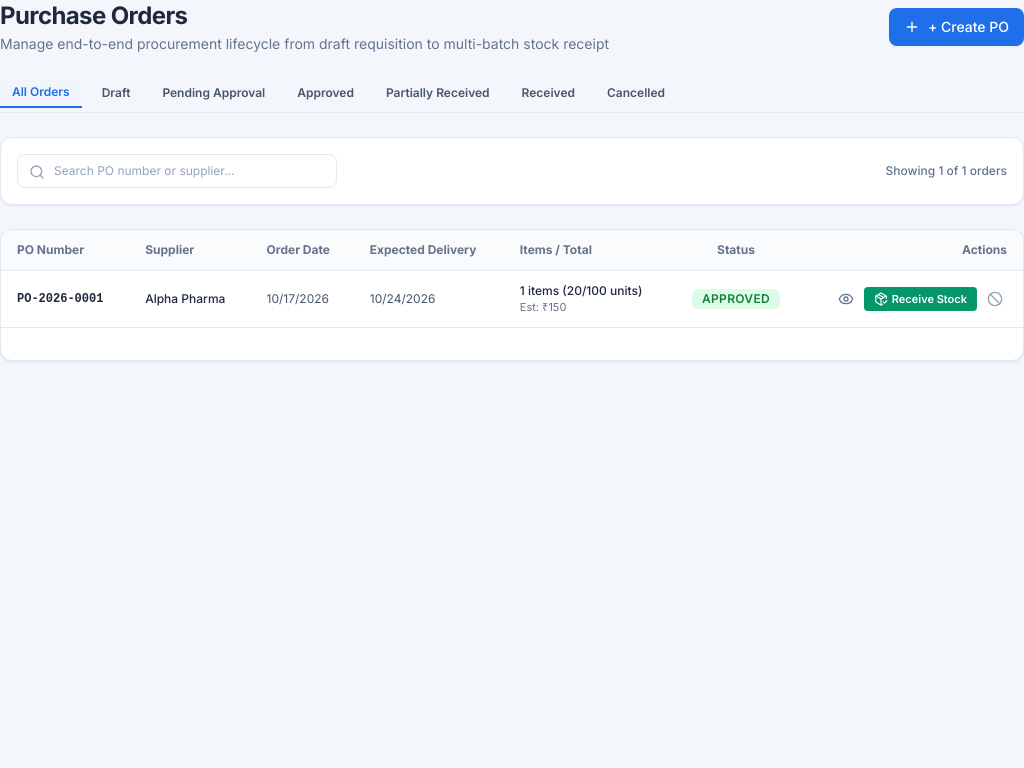
Test: Phase 7 Client Tests › Purchase Orders — Receive Form Validation › rejects receiving quantity exceeding the remaining ordered quantity
Expected: the text "PO-2026-0001" is shown, x1=1 y1=270 x2=129 y2=327
Click "Receive Stock" button
Click the button titled "Receive Stock".
click(920, 299)  # box x1=864 y1=287 x2=977 y2=311
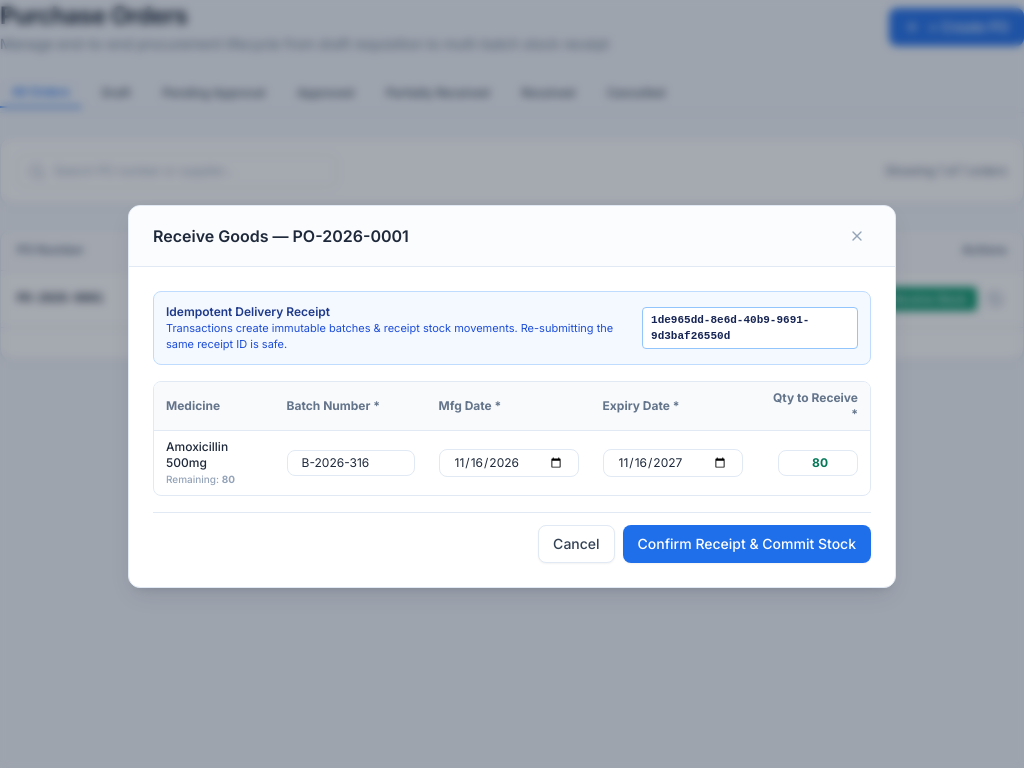
Expected: the heading "Receive Goods — PO-2026-0001" is shown, x1=153 y1=224 x2=409 y2=248
Expected: the text "Remaining: 80" is shown, x1=166 y1=472 x2=235 y2=484
Expected: the text "80" is shown, x1=222 y1=472 x2=235 y2=484
Find the quantity input and enter 120 (exceeds remaining 80)
Replace the text in the number field with "120" at (818, 462), box x1=778 y1=450 x2=858 y2=476
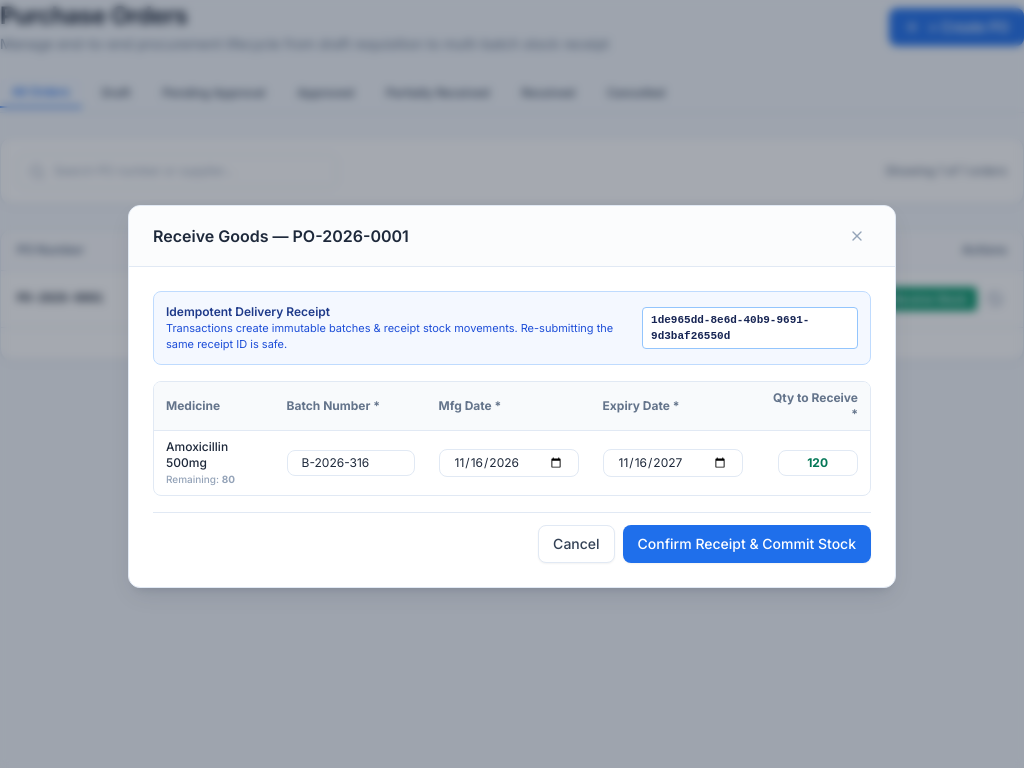
Click Confirm Receipt
Click the button "Confirm Receipt & Commit Stock".
click(747, 544)  # box x1=623 y1=524 x2=871 y2=562
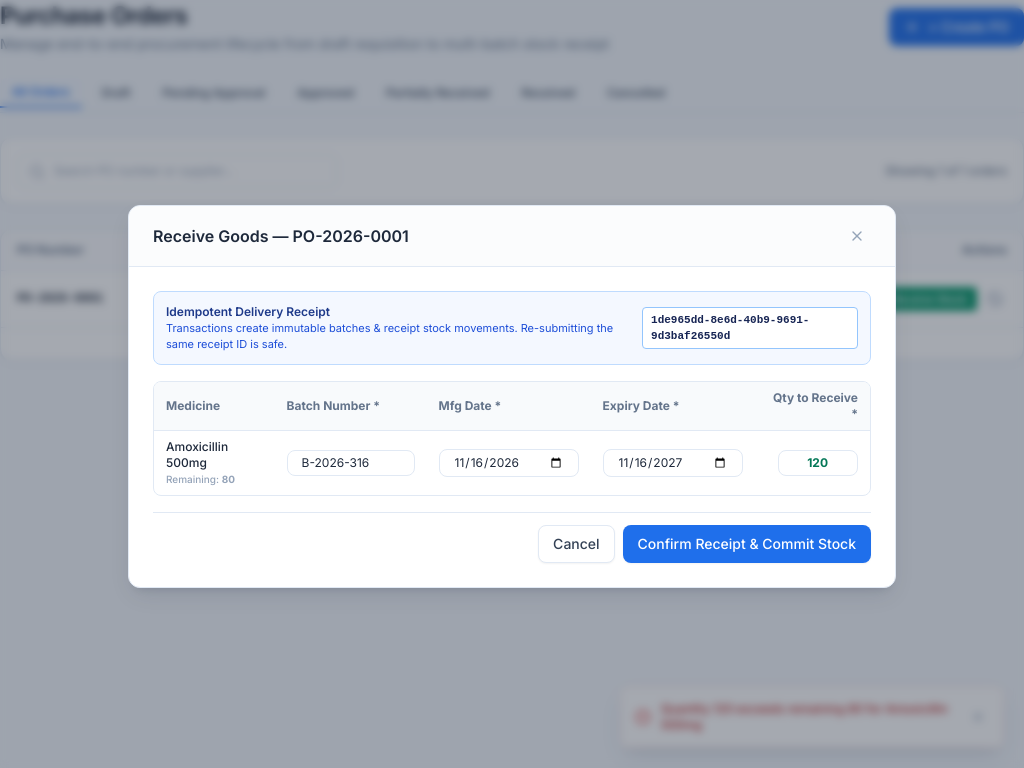
Expected: the text "Quantity 120 exceeds remaining 80 for Amoxicillin 500mg" is shown, x1=661 y1=701 x2=967 y2=733
